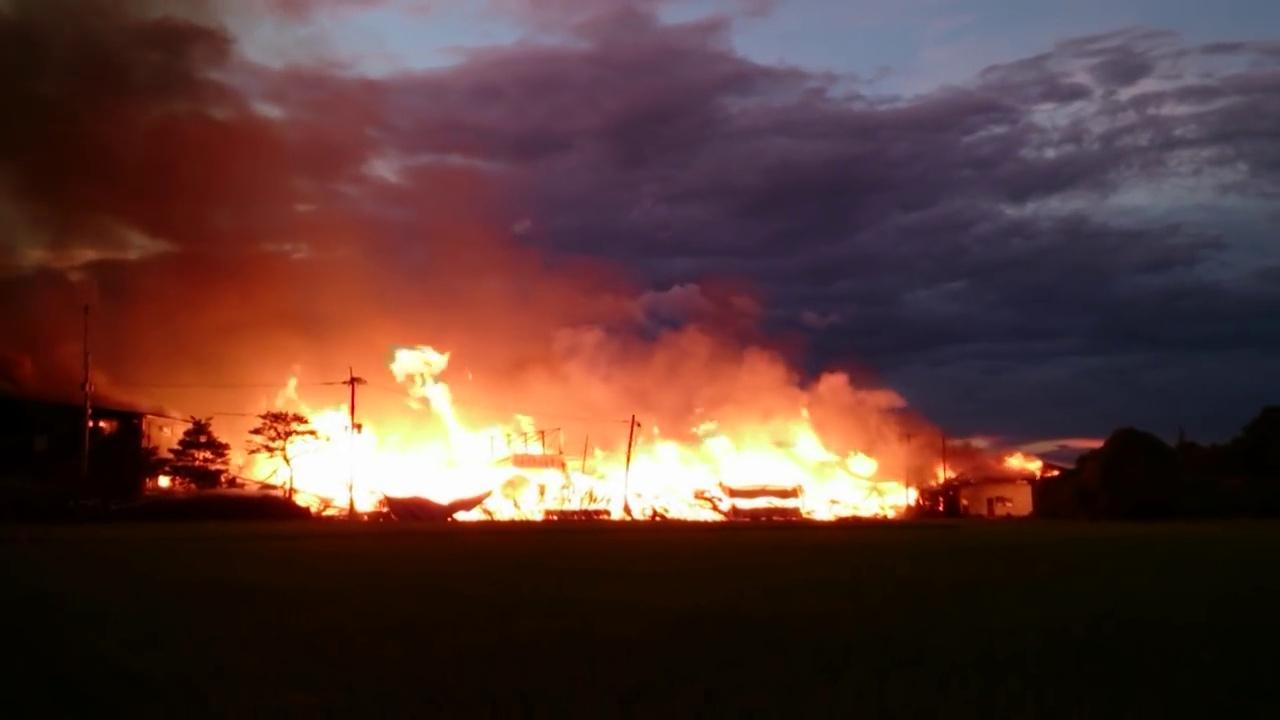fire: (287, 394, 880, 510)
